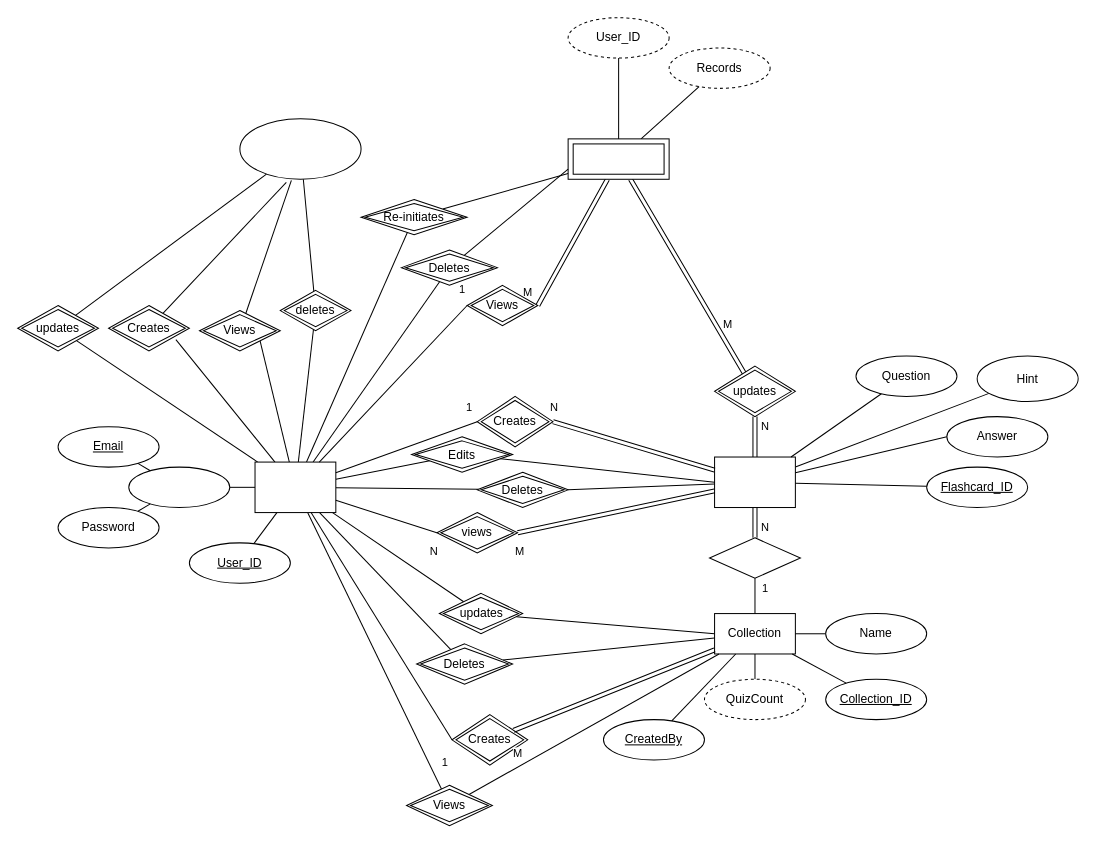
Image size: 1096x843. Some labels were removed from this diagram. Each missing label, with the box of its shape:
Account: (239, 118, 361, 179)
Flashcard: (714, 456, 795, 508)
has: (709, 537, 800, 578)
Log In: (128, 466, 230, 508)
Stastics: (567, 138, 669, 179)
User: (254, 461, 336, 513)
